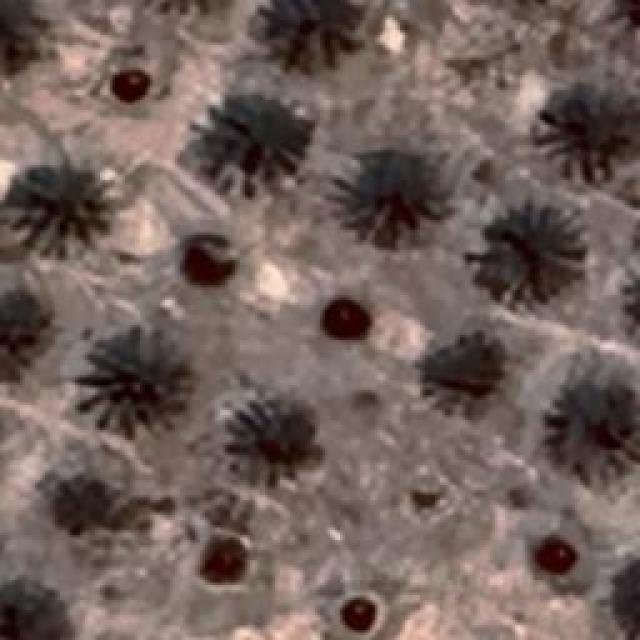PalmTree: (182, 88, 310, 200), (70, 330, 192, 435), (467, 200, 585, 302), (0, 158, 118, 258), (530, 80, 638, 180), (540, 374, 640, 478), (344, 148, 438, 252), (249, 0, 362, 72), (238, 400, 332, 478), (421, 340, 509, 408), (0, 575, 70, 640), (0, 292, 50, 382), (591, 554, 640, 640), (0, 0, 49, 85), (134, 0, 244, 19), (621, 235, 640, 342)
